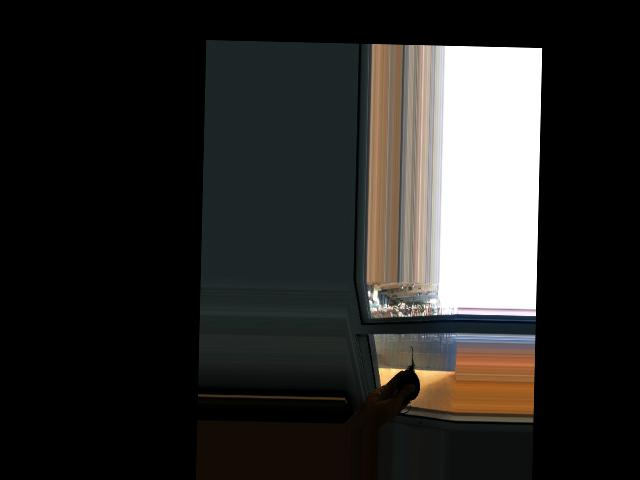beet: (389, 345, 420, 414)
